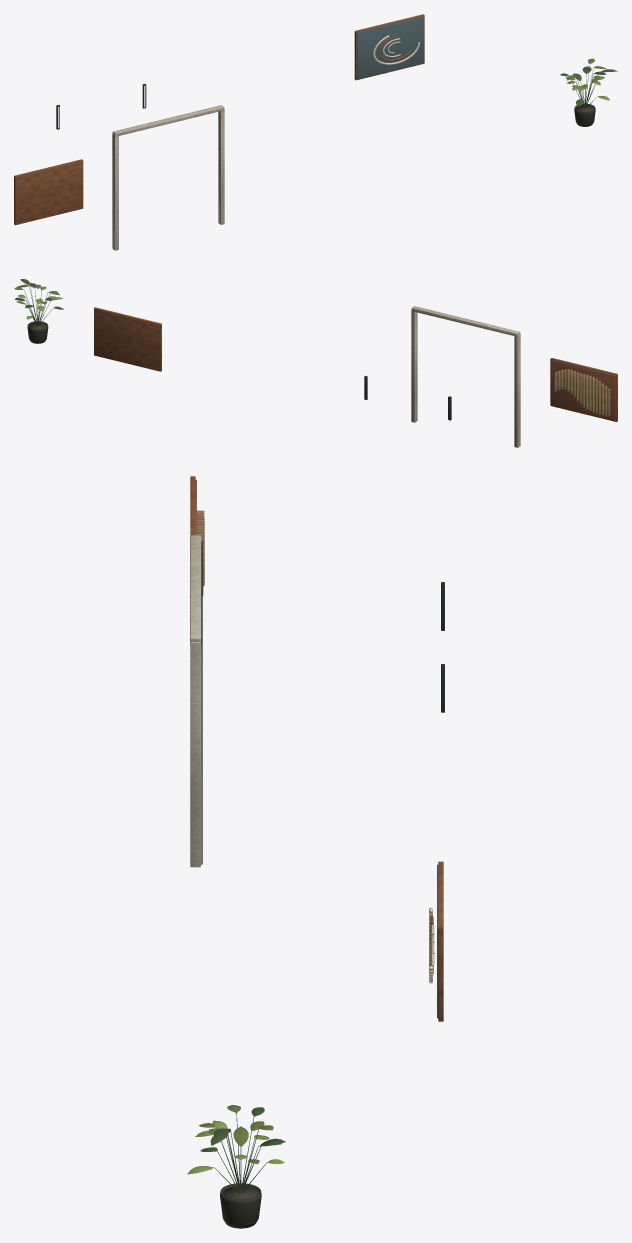
The model's file is foyer.glb.
3 views of the same model, one above another, from view 1: azimuth 30°, elevation 25°; view 2: azimuth 150°, elevation 25°; view 3: azimuth 270°, elevation 25° (orthographic). The views are drawn at different scales.
Visible parts, largest first — view 1: foyer - M03 Smoked walnut, foyer - Matte mineral blue, foyer - M09 Travertine, foyer - Leaf 4, foyer - Uncoated paper, foyer - Dark ceramic; view 2: foyer - M03 Smoked walnut, foyer - M09 Travertine, foyer - Matt rust, foyer - M03 Pale ash, foyer - M06 Blackened steel, foyer - Leaf 4, foyer - Dark ceramic, foyer - M06 Patinated bronze; view 3: foyer - M09 Travertine, foyer - M03 Smoked walnut, foyer - Dark ceramic, foyer - Leaf 4, foyer - M06 Blackened steel.
Part boxes in pixels (x1=…): foyer - M03 Smoked walnut: x1=14, y1=14, x2=424, y2=225; foyer - Matte mineral blue: x1=357, y1=16, x2=423, y2=79; foyer - M09 Travertine: x1=112, y1=105, x2=224, y2=250; foyer - Leaf 4: x1=560, y1=65, x2=605, y2=108; foyer - Uncoated paper: x1=373, y1=35, x2=419, y2=64; foyer - Dark ceramic: x1=574, y1=104, x2=595, y2=126; foyer - M03 Smoked walnut: x1=94, y1=307, x2=617, y2=421; foyer - M09 Travertine: x1=411, y1=306, x2=520, y2=447; foyer - Matt rust: x1=551, y1=360, x2=615, y2=420; foyer - M03 Pale ash: x1=554, y1=369, x2=610, y2=416; foyer - M06 Blackened steel: x1=364, y1=311, x2=516, y2=446; foyer - Leaf 4: x1=15, y1=283, x2=52, y2=326; foyer - Dark ceramic: x1=27, y1=321, x2=48, y2=343; foyer - M06 Patinated bronze: x1=563, y1=369, x2=597, y2=413; foyer - M09 Travertine: x1=190, y1=535, x2=201, y2=867; foyer - M03 Smoked walnut: x1=190, y1=476, x2=443, y2=1021; foyer - Dark ceramic: x1=220, y1=1183, x2=261, y2=1228; foyer - Leaf 4: x1=213, y1=1107, x2=281, y2=1193; foyer - M06 Blackened steel: x1=201, y1=542, x2=444, y2=864.
Size of the model in its own units: 15.17 by 2.8 by 2.86.
Materials: 17 (3 with a texture image).
